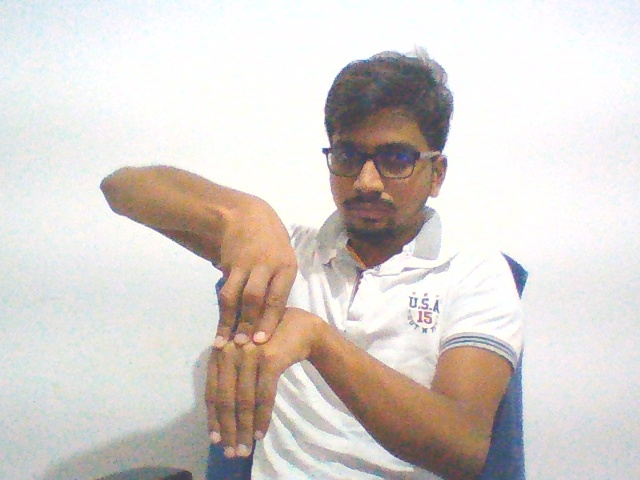papaya: (201, 194, 321, 460)
